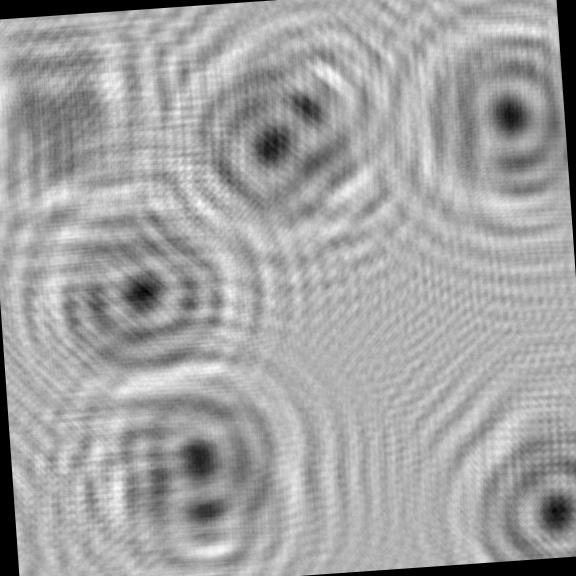P: (0, 142, 297, 441), (375, 0, 574, 263), (434, 382, 576, 565)
R: (132, 0, 433, 296), (39, 342, 327, 576)
T: (0, 7, 196, 247)
